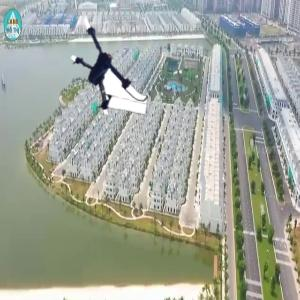drone: (56, 17, 154, 115)
